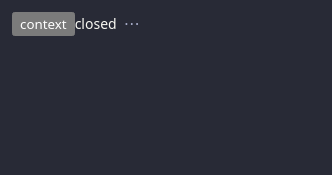
Test: CardMenu › is closed until the trigger is clicked, then shows the items in a portal
Click the button named "Task actions": (132,23) [117, 11, 147, 35]
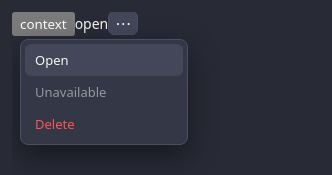
Now the button named "Task actions" is expanded, box [108, 11, 138, 35]
Now the menu items read "Open", "Unavailable", "Delete", in this order, box [25, 44, 183, 76]; [25, 76, 183, 108]; [25, 108, 183, 140]
Now the menu item "Unavailable" is disabled, box [25, 76, 183, 108]
